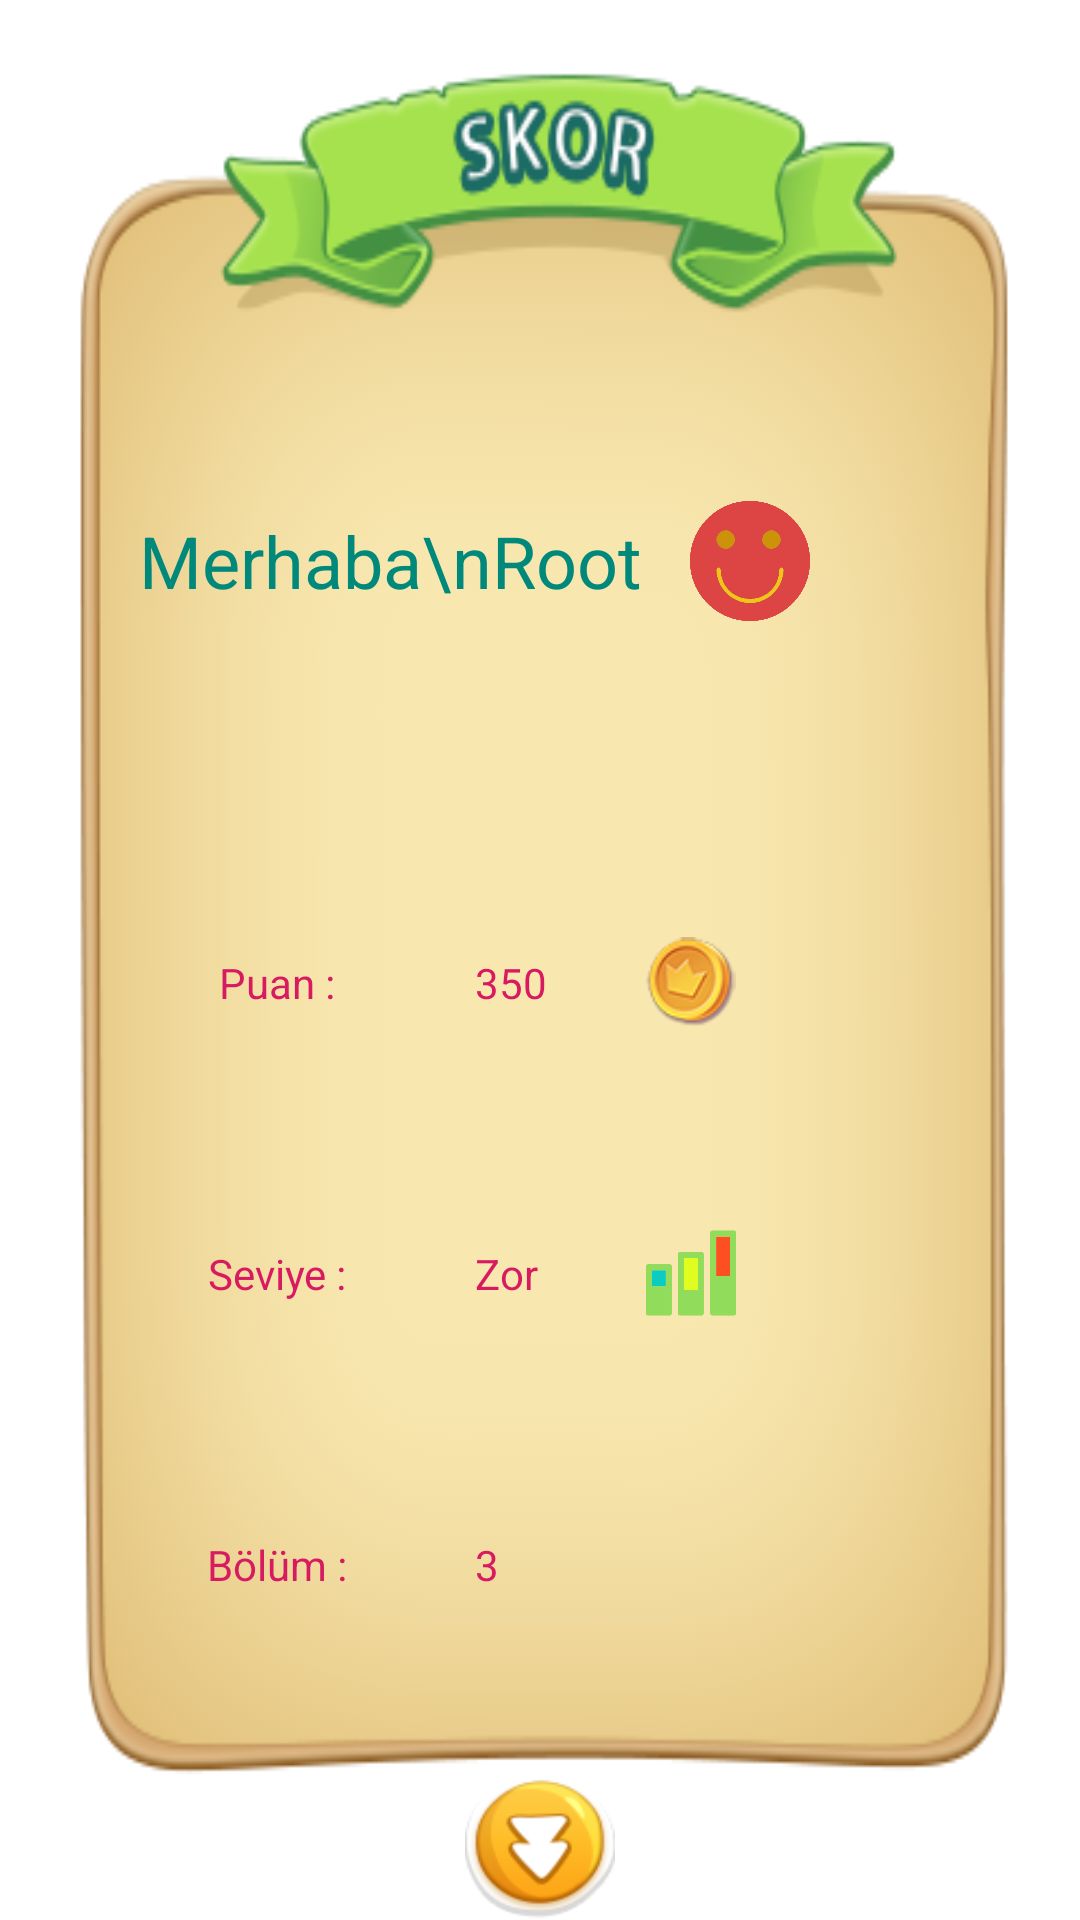

Where to tap for icons on this 1080px×1920px app screen, as (x=x, y=y):
levels: (x=691, y=1273)
point: (x=691, y=981)
smile: (x=750, y=561)
